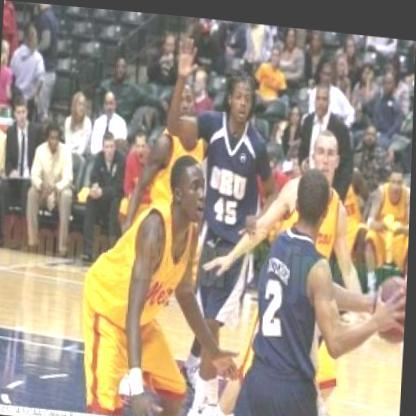basketball: (369, 260, 409, 337)
